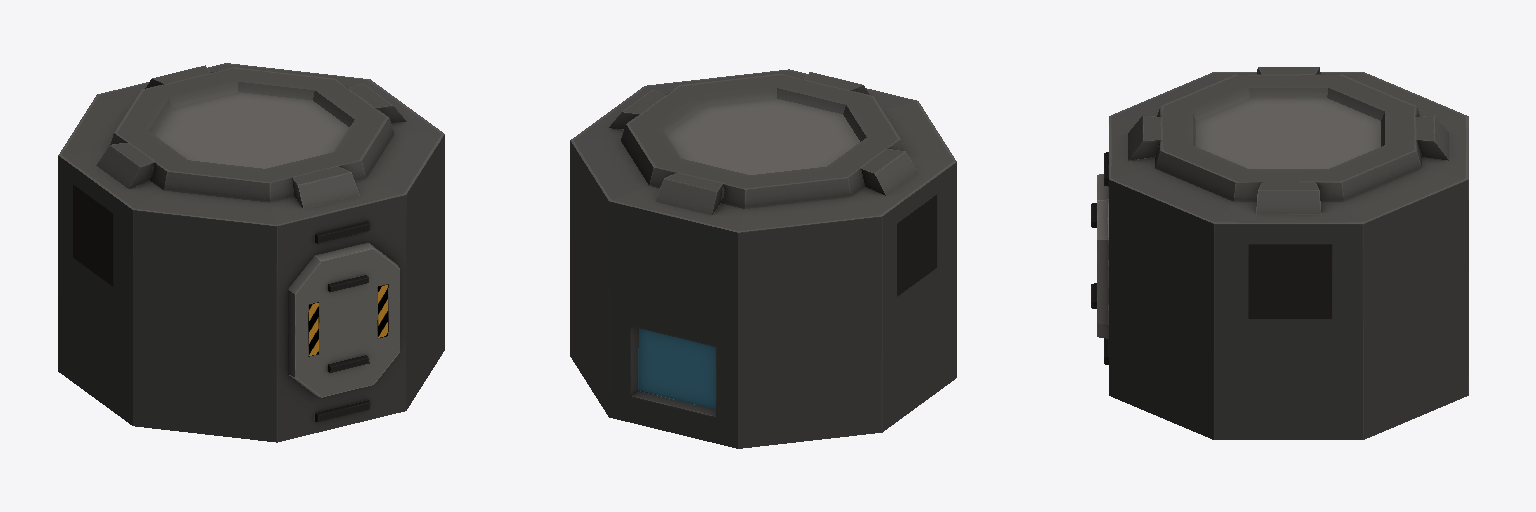
3 renders of one model, left to right at view 1: azimuth 30°, elevation 25°; view 2: azimuth 150°, elevation 25°; view 3: azimuth 270°, elevation 25°, orthographic.
Visible parts, largest first — view 1: Mk1LanderCan_mesh; view 2: Mk1LanderCan_mesh; view 3: Mk1LanderCan_mesh.
Boxes of the visible parts, box(x1,y1,x2,y2) form: Mk1LanderCan_mesh: box(58, 63, 444, 442); Mk1LanderCan_mesh: box(570, 69, 956, 448); Mk1LanderCan_mesh: box(1091, 67, 1468, 439).
Size of the model in its own units: 3.82 by 2.99 by 4.01.
Materials: 1 (1 with a texture image).